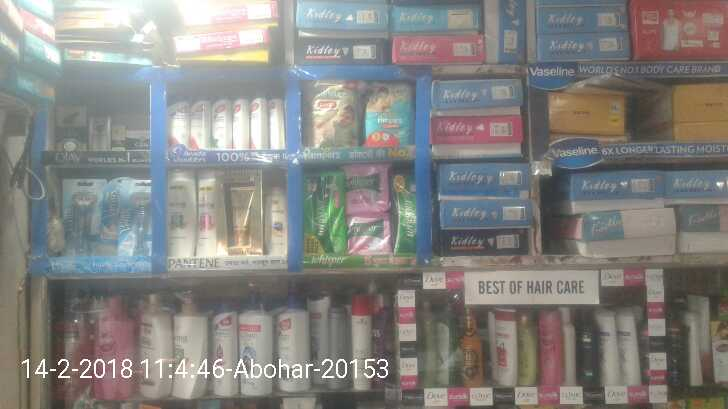venus: (65, 180, 103, 255), (122, 180, 151, 253), (103, 180, 122, 253)
